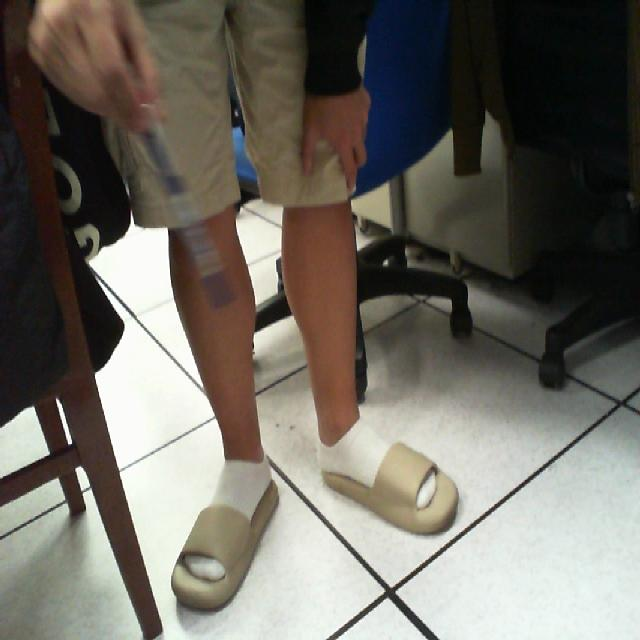Pen: (119, 70, 260, 333)
